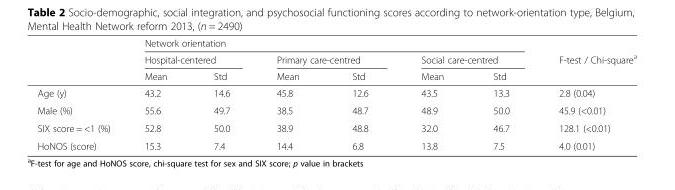table: (36, 37, 636, 151)
table column: (533, 37, 636, 151), (36, 37, 126, 151), (394, 37, 467, 151), (252, 37, 324, 151), (324, 37, 394, 151), (467, 37, 533, 151), (126, 37, 189, 151), (189, 37, 252, 151)
table column header: (36, 37, 636, 84)
table row: (36, 101, 636, 119), (36, 50, 636, 67), (36, 67, 636, 84), (36, 84, 636, 101), (36, 119, 636, 136), (36, 136, 636, 151), (36, 37, 636, 50)
table spanning cell: (126, 37, 533, 50), (533, 37, 636, 84), (252, 50, 394, 67), (394, 50, 533, 67), (126, 50, 252, 67)
